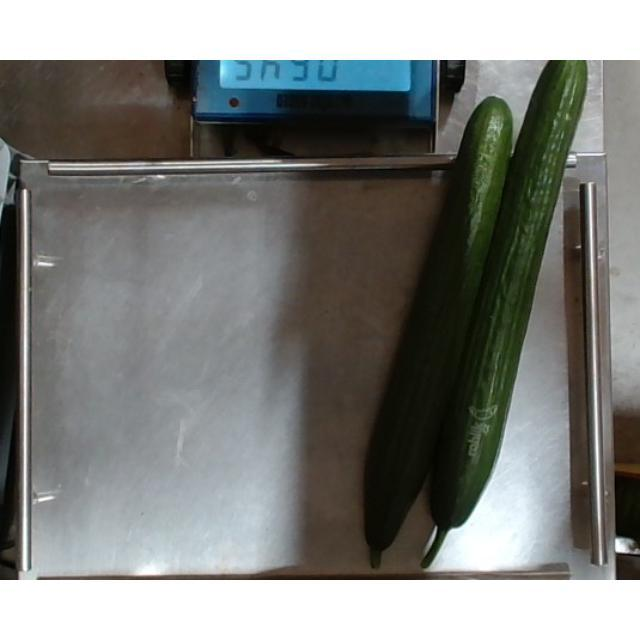cucumber: (420, 60, 588, 580), (360, 85, 512, 580)
